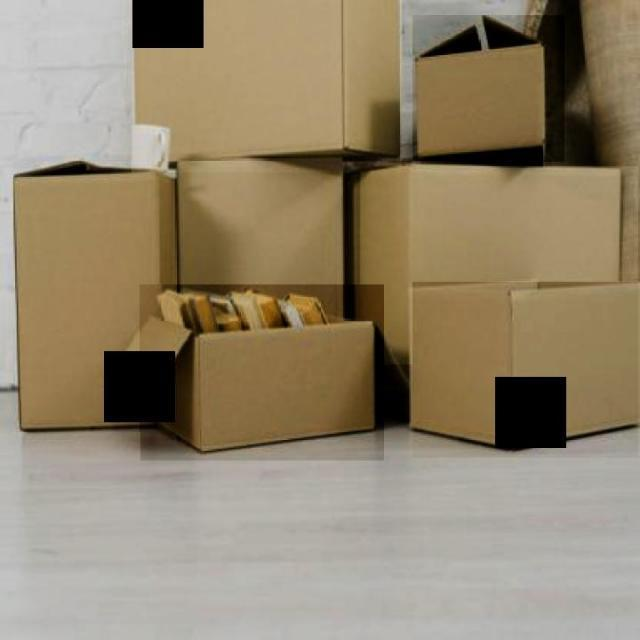box: (360, 166, 638, 364), (132, 0, 401, 172), (14, 160, 174, 432), (140, 284, 384, 460), (412, 282, 638, 458), (176, 156, 356, 334), (412, 15, 564, 164)
